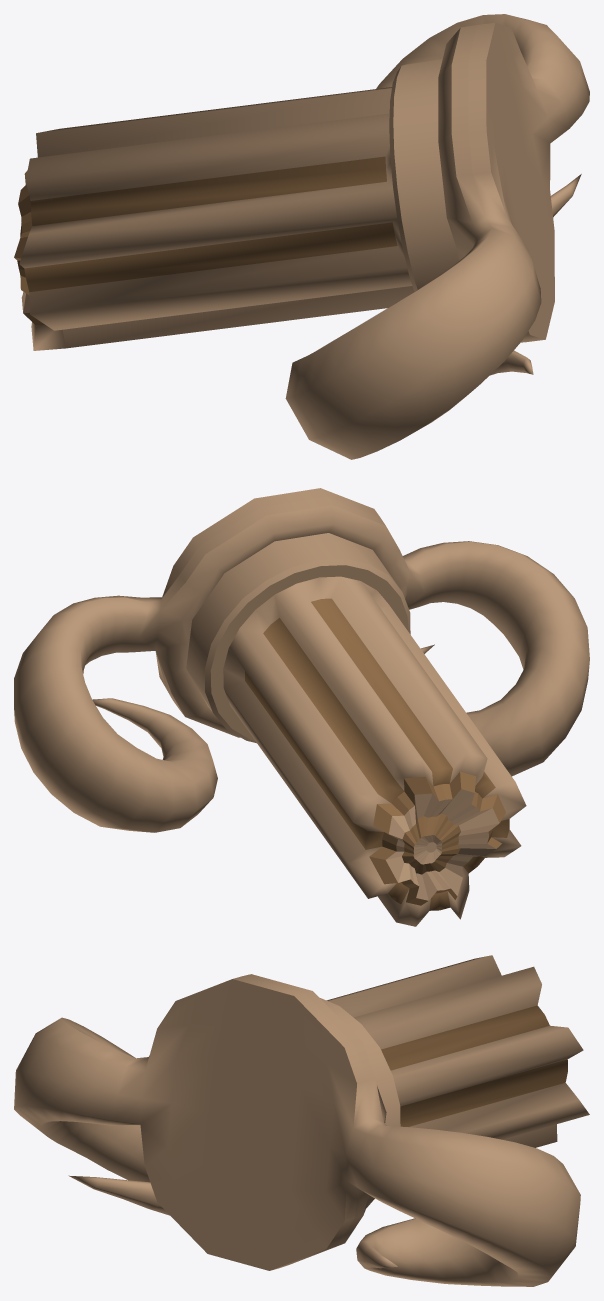
Rendered from Broken_Pillar_Top_Var_2.fbx.
3 views of the same model, one above another, from view 1: azimuth 30°, elevation 25°; view 2: azimuth 150°, elevation 25°; view 3: azimuth 270°, elevation 25° (orthographic). The views are drawn at different scales.
Visible parts, largest first — view 1: Pillar_Top; view 2: Pillar_Top; view 3: Pillar_Top.
Part boxes in pixels (bbox=[...]): Pillar_Top: bbox=[14, 14, 589, 459]; Pillar_Top: bbox=[14, 488, 589, 926]; Pillar_Top: bbox=[14, 955, 589, 1286].
Bounding box in the file's own units: 402 × 389 × 219.
